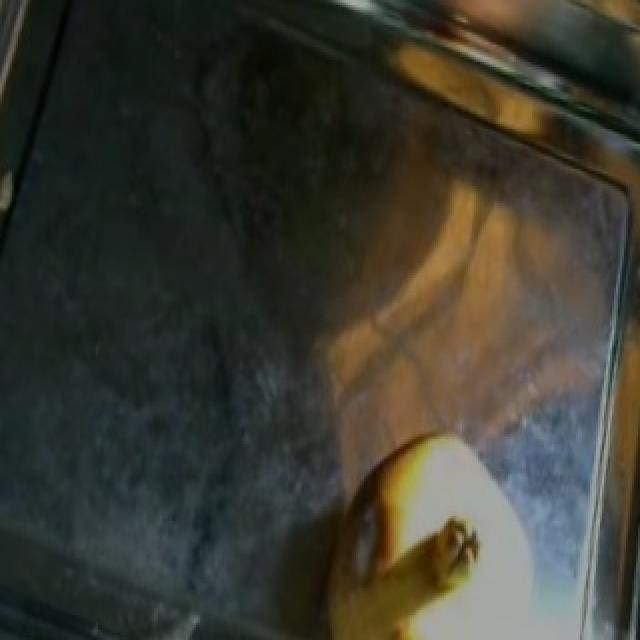fruit: (300, 407, 544, 635)
